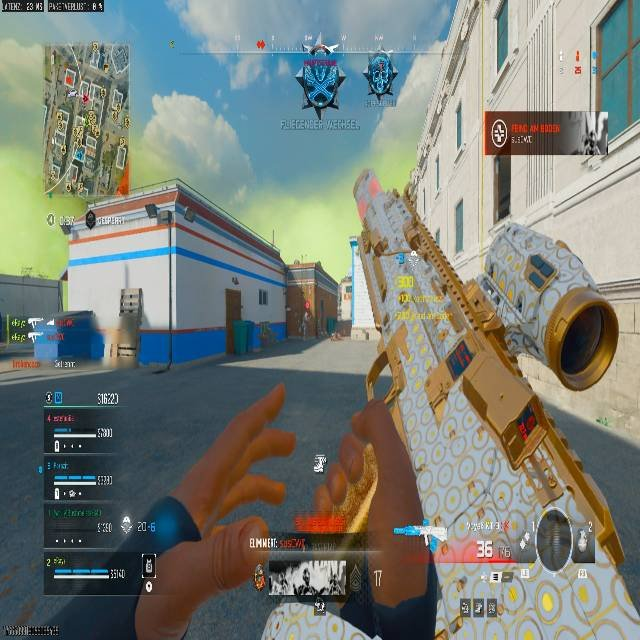player: (294, 45, 346, 121), (363, 53, 397, 101)
